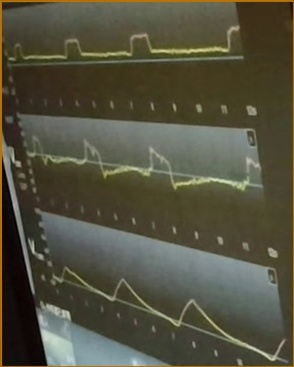Accumulation Flow: (28, 133, 260, 192)
Volume: (53, 260, 286, 361)
